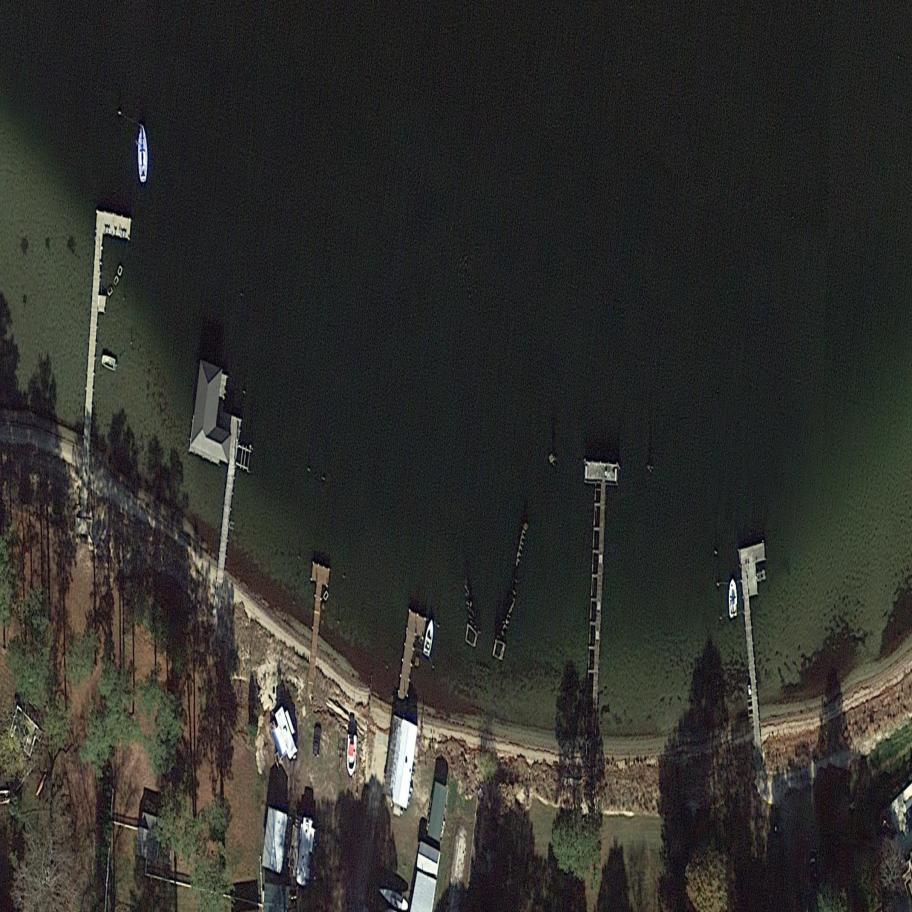ship: (373, 881, 413, 912), (421, 614, 438, 663), (137, 123, 150, 185), (95, 350, 125, 376), (344, 732, 359, 780), (726, 574, 740, 623)
small-vehicle: (310, 719, 323, 762)
